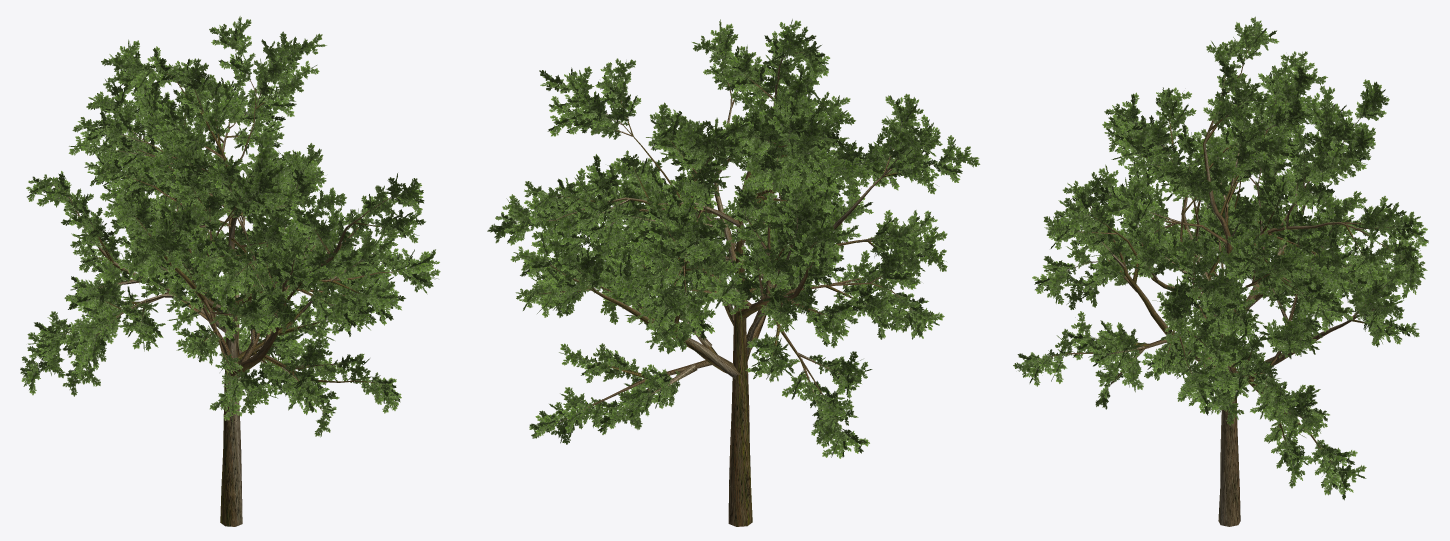
Rendered from oak.glb.
The picture shows the model from 3 angles, left to right: view 1: azimuth 30°, elevation 25°; view 2: azimuth 150°, elevation 25°; view 3: azimuth 270°, elevation 25°; orthographic projection. The views are drawn at different scales.
Visible parts, largest first — view 1: Tree; view 2: Tree; view 3: Tree.
Part boxes in pixels (<box>): Tree: <box>20,16,440,526</box>; Tree: <box>487,19,980,526</box>; Tree: <box>1013,16,1428,526</box>.
Bounding box in the file's own units: 52.89 × 64.87 × 52.82.
2 materials, 2 textured.
